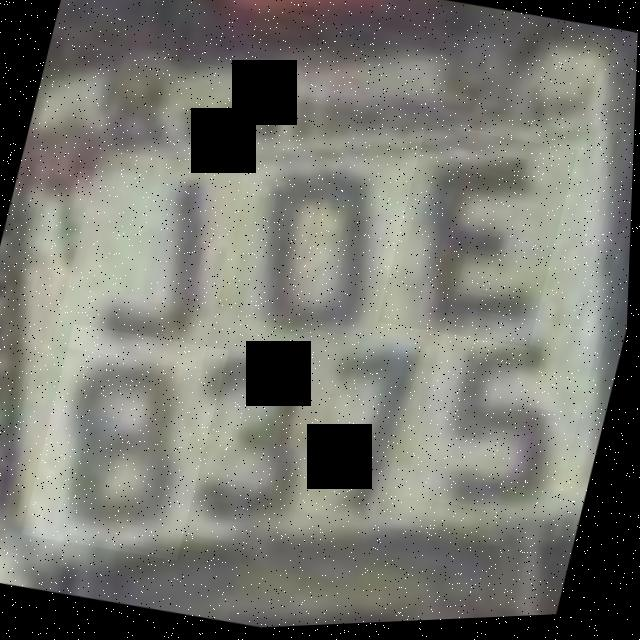3: (138, 314, 377, 558)
5: (406, 304, 604, 532)
7: (273, 317, 468, 540)
8: (25, 320, 233, 568)
E: (379, 123, 579, 358)
J: (54, 143, 252, 377)
